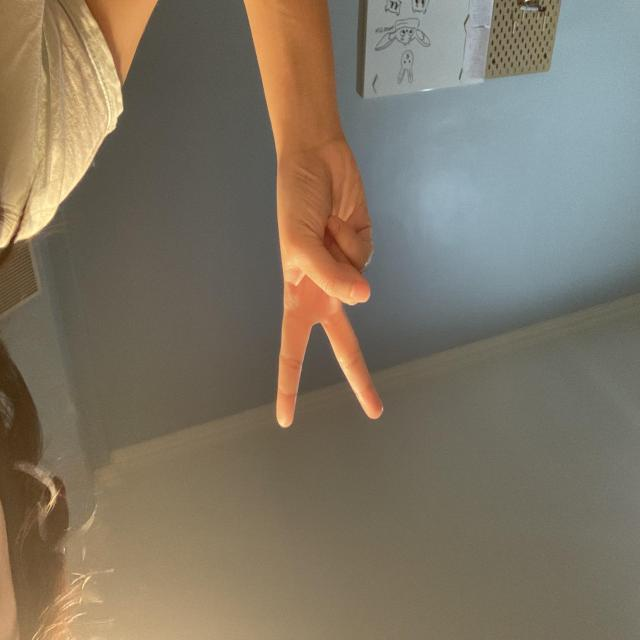V: (256, 210, 365, 504)
